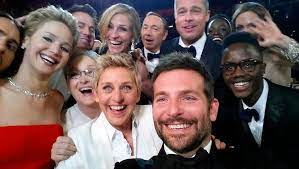face: (155, 88, 208, 144), (221, 58, 262, 97), (98, 79, 136, 119), (66, 65, 103, 103), (35, 31, 71, 70), (173, 4, 208, 35), (103, 19, 133, 50), (70, 18, 98, 50), (140, 21, 165, 48), (209, 15, 233, 43)
